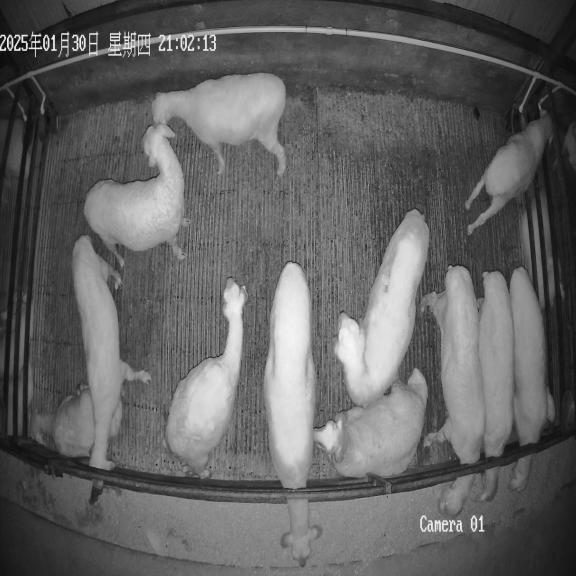drinking: (465, 114, 553, 234)
eating: (72, 236, 151, 490), (263, 262, 322, 566), (421, 265, 484, 515), (509, 267, 548, 491), (478, 271, 514, 501)
lying: (314, 369, 428, 478), (30, 378, 122, 458)
stand: (333, 209, 429, 406), (165, 278, 248, 478), (84, 125, 190, 267), (151, 73, 286, 175)
